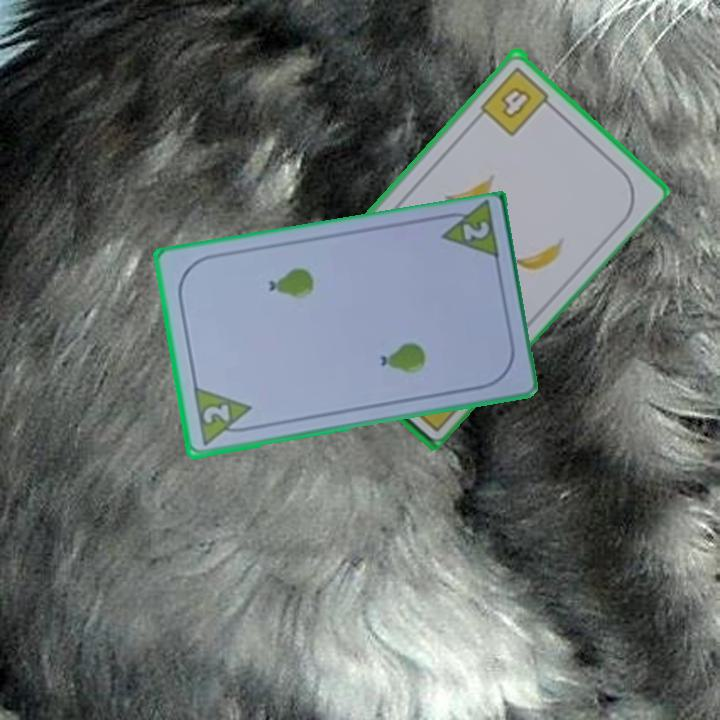2p: (189, 384, 257, 449), (458, 217, 493, 244)
4b: (476, 62, 558, 139)
